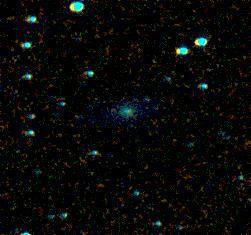star: (87, 171, 117, 201)
